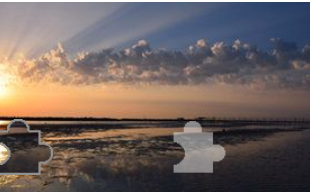target: (168, 120, 226, 175)
